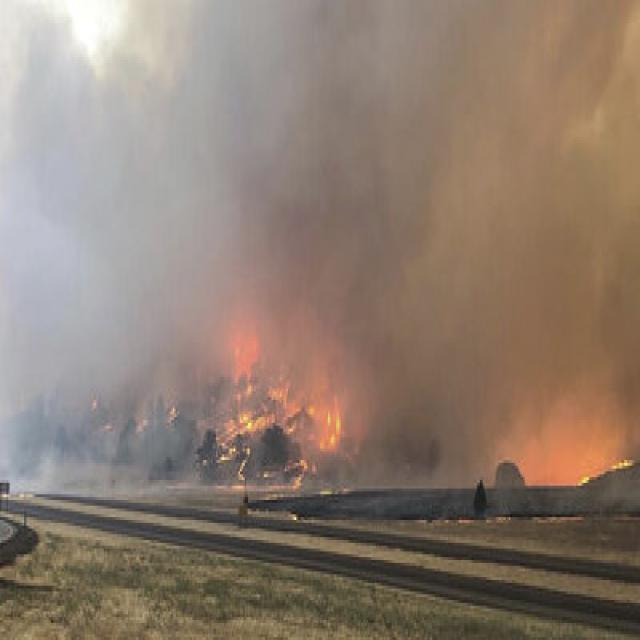Fire: (577, 451, 632, 492), (321, 395, 352, 455)
Smoke: (285, 0, 640, 509), (0, 0, 274, 503)
